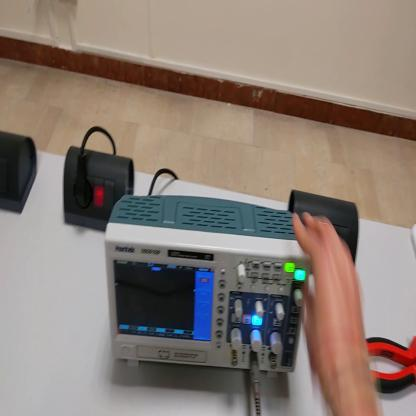hand: (291, 209, 375, 399)
oscilloscope: (102, 197, 307, 381)
pliers: (367, 332, 416, 396)
socket: (62, 147, 136, 234), (2, 131, 40, 215)
